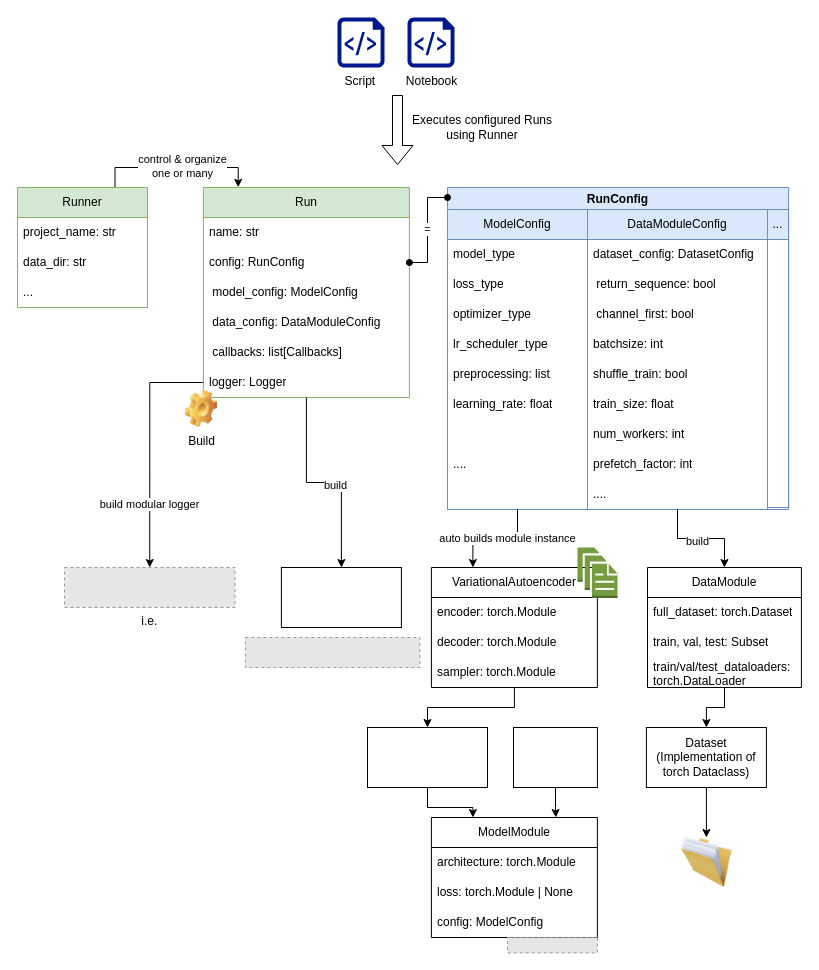
This 819x970 diagram has some shape labels left out. Grey dashed boxes stand in for pictures. Here are the shapes that lost their labels. From the top down, the centre of each, then its label:
(x=340, y=597): Lightning Trainer
(x=427, y=757): ModelModule for Pythae-based Architecture
(x=554, y=757): ModelModule for Custom Architecture
(x=706, y=862): Local Files
